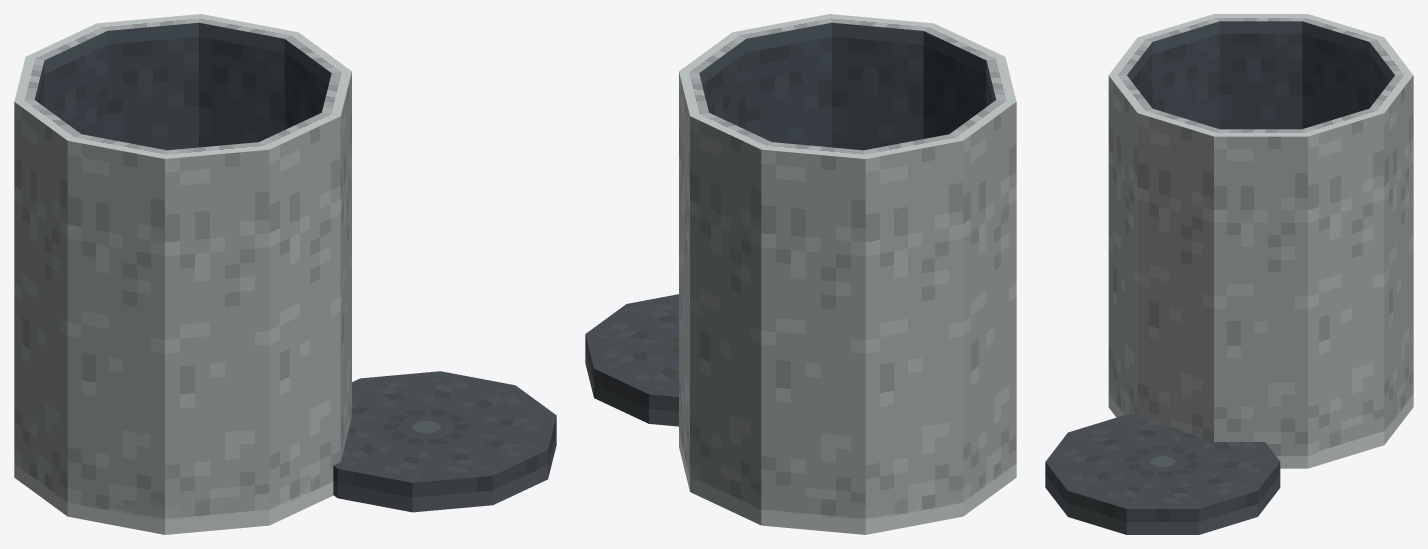
File: f_fvat_empty.glb
The picture shows the model from 3 angles, left to right: view 1: azimuth 30°, elevation 25°; view 2: azimuth 150°, elevation 25°; view 3: azimuth 270°, elevation 25°; orthographic projection. The views are drawn at different scales.
Visible parts, largest first — view 1: block_empty-fermenting-vessel-outer-2, block_empty-fermenting-vessel-outer-3, block_empty-fermenting-vessel-outer-1, block_removed-vat-lid, block_empty-fermenting-vessel-outer-4, block_empty-fermenting-vessel-inner-7, block_empty-fermenting-vessel-inner-8, block_vat-base, block_empty-fermenting-vessel-inner-6, block_empty-fermenting-vessel-outer-0, block_empty-fermenting-vessel-inner-9, block_empty-fermenting-vessel-far-rim-2 (+9 smaller); view 2: block_empty-fermenting-vessel-outer-6, block_empty-fermenting-vessel-outer-5, block_empty-fermenting-vessel-outer-7, block_empty-fermenting-vessel-outer-4, block_empty-fermenting-vessel-inner-1, block_removed-vat-lid, block_empty-fermenting-vessel-inner-0, block_vat-base, block_empty-fermenting-vessel-inner-2, block_empty-fermenting-vessel-outer-8, block_empty-fermenting-vessel-inner-9, block_empty-fermenting-vessel-far-rim-1 (+9 smaller); view 3: block_empty-fermenting-vessel-outer-9, block_empty-fermenting-vessel-outer-8, block_empty-fermenting-vessel-outer-0, block_removed-vat-lid, block_empty-fermenting-vessel-outer-7, block_empty-fermenting-vessel-outer-1, block_empty-fermenting-vessel-inner-4, block_empty-fermenting-vessel-inner-5, block_empty-fermenting-vessel-inner-3, block_vat-base, block_empty-fermenting-vessel-inner-6, block_empty-fermenting-vessel-inner-2 (+10 smaller).
Boxes of the visible parts, left/top/right/bottom form: block_empty-fermenting-vessel-outer-2: left=165, top=149, right=269, bottom=533; block_empty-fermenting-vessel-outer-3: left=67, top=141, right=164, bottom=534; block_empty-fermenting-vessel-outer-1: left=269, top=116, right=340, bottom=523; block_removed-vat-lid: left=333, top=371, right=556, bottom=512; block_empty-fermenting-vessel-outer-4: left=14, top=102, right=67, bottom=515; block_empty-fermenting-vessel-inner-7: left=107, top=22, right=198, bottom=150; block_empty-fermenting-vessel-inner-8: left=199, top=22, right=284, bottom=147; block_vat-base: left=14, top=416, right=351, bottom=534; block_empty-fermenting-vessel-inner-6: left=44, top=31, right=107, bottom=138; block_empty-fermenting-vessel-outer-0: left=340, top=72, right=351, bottom=461; block_empty-fermenting-vessel-inner-9: left=284, top=39, right=331, bottom=129; block_empty-fermenting-vessel-far-rim-2: left=165, top=142, right=268, bottom=158; block_empty-fermenting-vessel-outer-6: left=761, top=149, right=865, bottom=534; block_empty-fermenting-vessel-outer-5: left=865, top=141, right=963, bottom=534; block_empty-fermenting-vessel-outer-7: left=690, top=116, right=761, bottom=524; block_empty-fermenting-vessel-outer-4: left=963, top=102, right=1016, bottom=514; block_empty-fermenting-vessel-inner-1: left=832, top=22, right=923, bottom=150; block_removed-vat-lid: left=585, top=294, right=678, bottom=426; block_empty-fermenting-vessel-inner-0: left=746, top=22, right=831, bottom=147; block_vat-base: left=679, top=416, right=1016, bottom=534; block_empty-fermenting-vessel-inner-2: left=923, top=31, right=986, bottom=138; block_empty-fermenting-vessel-outer-8: left=679, top=72, right=689, bottom=487; block_empty-fermenting-vessel-inner-9: left=699, top=39, right=746, bottom=129; block_empty-fermenting-vessel-far-rim-1: left=830, top=14, right=933, bottom=30; block_empty-fermenting-vessel-outer-9: left=1214, top=136, right=1307, bottom=468; block_empty-fermenting-vessel-outer-8: left=1308, top=113, right=1384, bottom=467; block_empty-fermenting-vessel-outer-0: left=1137, top=113, right=1213, bottom=441; block_removed-vat-lid: left=1045, top=414, right=1280, bottom=534; block_empty-fermenting-vessel-outer-7: left=1384, top=75, right=1413, bottom=443; block_empty-fermenting-vessel-outer-1: left=1108, top=76, right=1137, bottom=416; block_empty-fermenting-vessel-inner-4: left=1219, top=21, right=1302, bottom=129; block_empty-fermenting-vessel-inner-5: left=1302, top=21, right=1369, bottom=128; block_empty-fermenting-vessel-inner-3: left=1152, top=21, right=1219, bottom=128; block_vat-base: left=1108, top=379, right=1413, bottom=468; block_empty-fermenting-vessel-inner-6: left=1369, top=42, right=1394, bottom=107; block_empty-fermenting-vessel-inner-2: left=1127, top=42, right=1152, bottom=108.
Bounding box in the file's own units: 0.6852 × 0.56 × 0.5624.
Materials: 1 (1 with a texture image).
